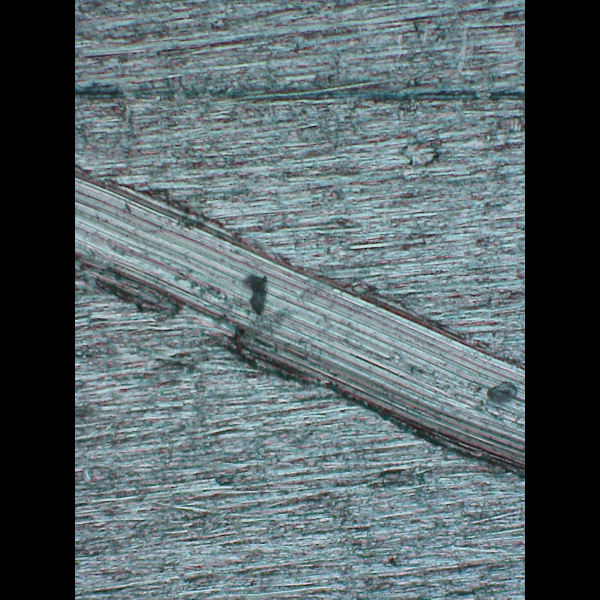d: (75, 152, 524, 489)
